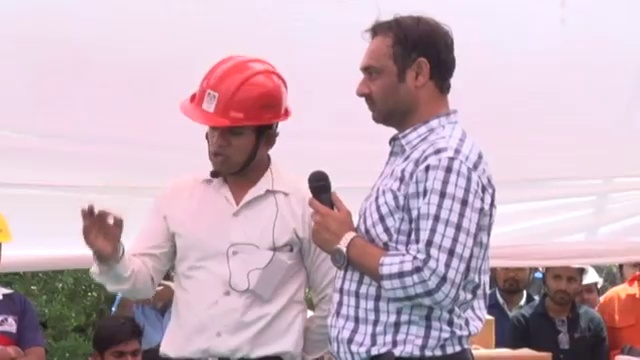helmet: (177, 56, 294, 132), (579, 269, 606, 292)
helmet_off: (359, 11, 458, 130), (85, 312, 145, 359), (539, 266, 582, 313), (494, 264, 534, 303)
helmet_on: (175, 56, 291, 182), (576, 269, 606, 309)
person: (89, 50, 337, 345), (315, 10, 512, 360), (506, 266, 607, 352), (481, 260, 540, 352), (599, 269, 640, 357), (0, 284, 46, 360)
